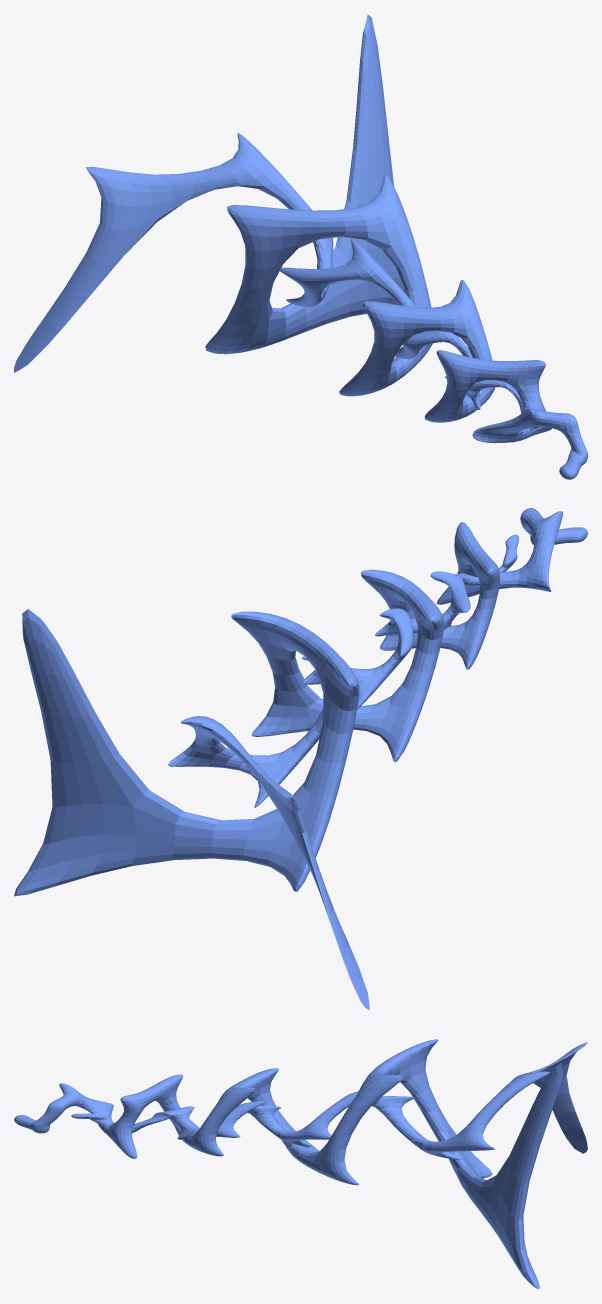
3 renders of one model, top to bottom at view 1: azimuth 30°, elevation 25°; view 2: azimuth 150°, elevation 25°; view 3: azimuth 270°, elevation 25°, orthographic. The views are drawn at different scales.
Visible parts, largest first — view 1: Cube; view 2: Cube; view 3: Cube.
Part boxes in pixels (x1=…): Cube: x1=14, y1=14, x2=587, y2=479; Cube: x1=14, y1=508, x2=587, y2=1010; Cube: x1=14, y1=1039, x2=587, y2=1289.
Size of the model in its own units: 3149 by 2374 by 5701.
